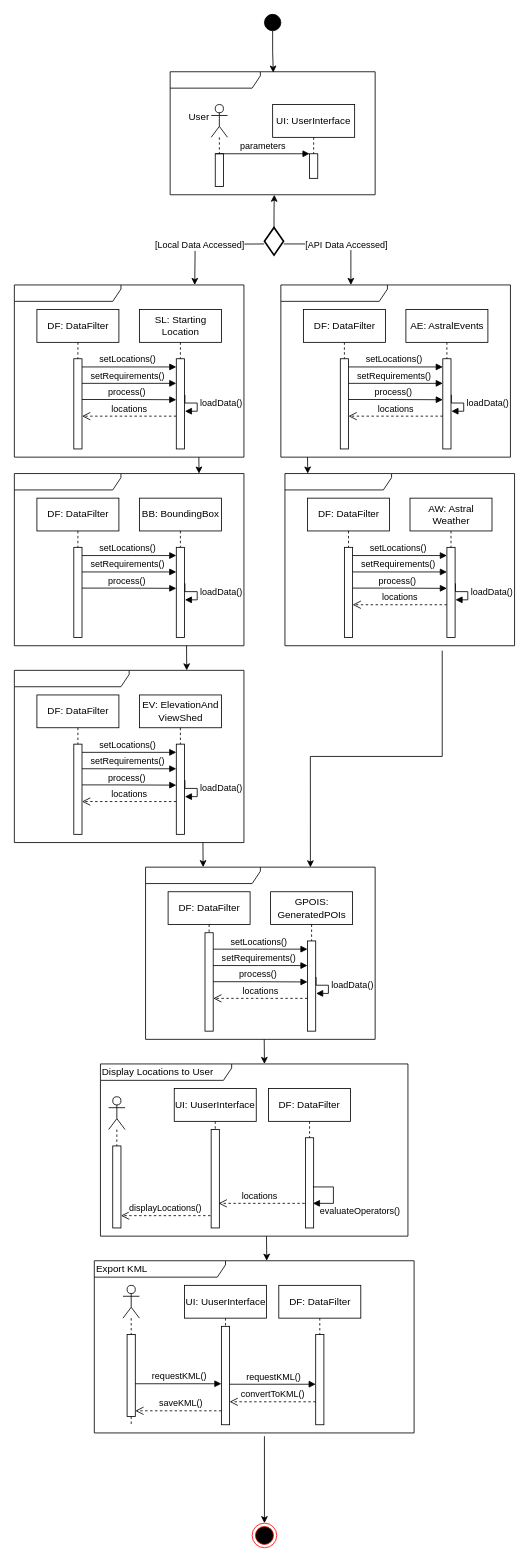
The diagram is 529 pixels wide and 1562 high, and some of its shapes have lost their labels. The centre of each missing label's shape, as x and y in pixels:
"GeneratePOIs" goes at (x=260, y=952).
"Input Parameters" goes at (x=272, y=133).
"Set Bounding Box" goes at (x=129, y=559).
"Set Elevation/ViewShed" goes at (x=129, y=756).
"Set Starting Location" goes at (x=129, y=370).
"Specify Astral Events" goes at (x=395, y=370).
"Specify Astral Weather" goes at (x=399, y=559).
